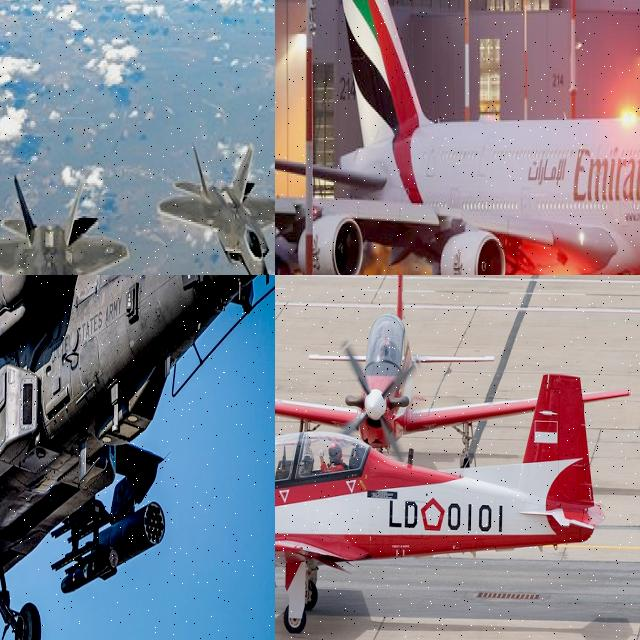A380: (275, 0, 640, 275)
Apache: (0, 275, 275, 640)
F22: (153, 146, 275, 275), (0, 177, 136, 275)
KT-1: (275, 374, 601, 633), (275, 275, 629, 445)
